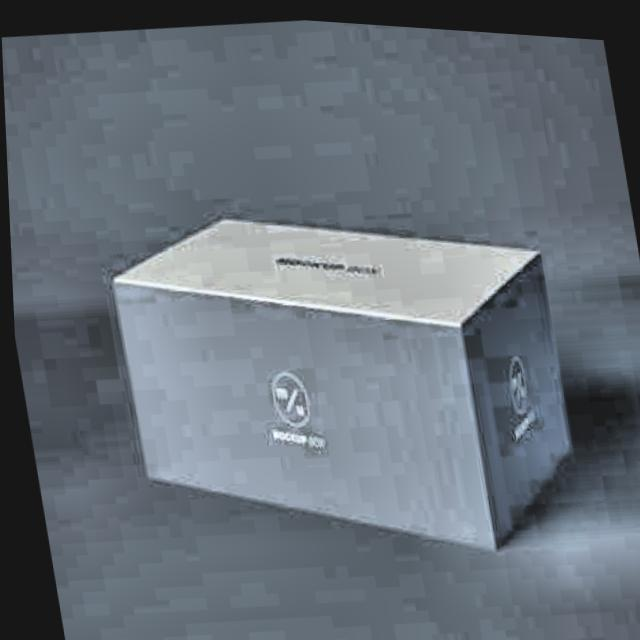Cardbox: (77, 147, 615, 608)
